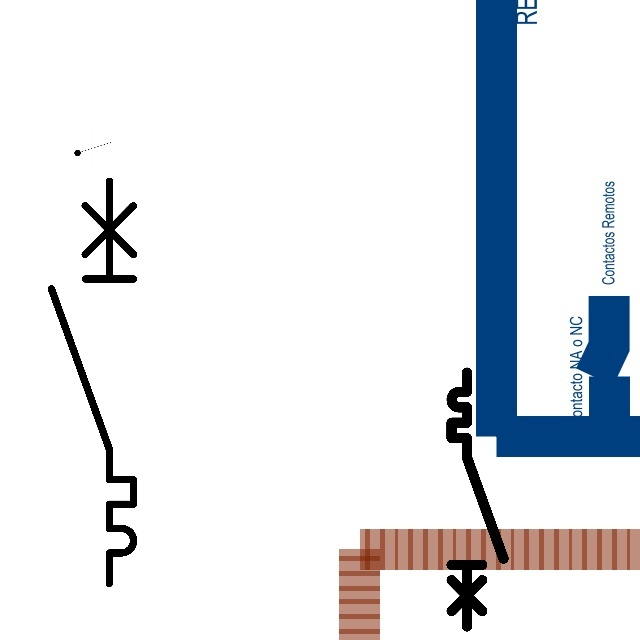interruptor_termomagnetico: (41, 170, 144, 593), (445, 366, 510, 633)
